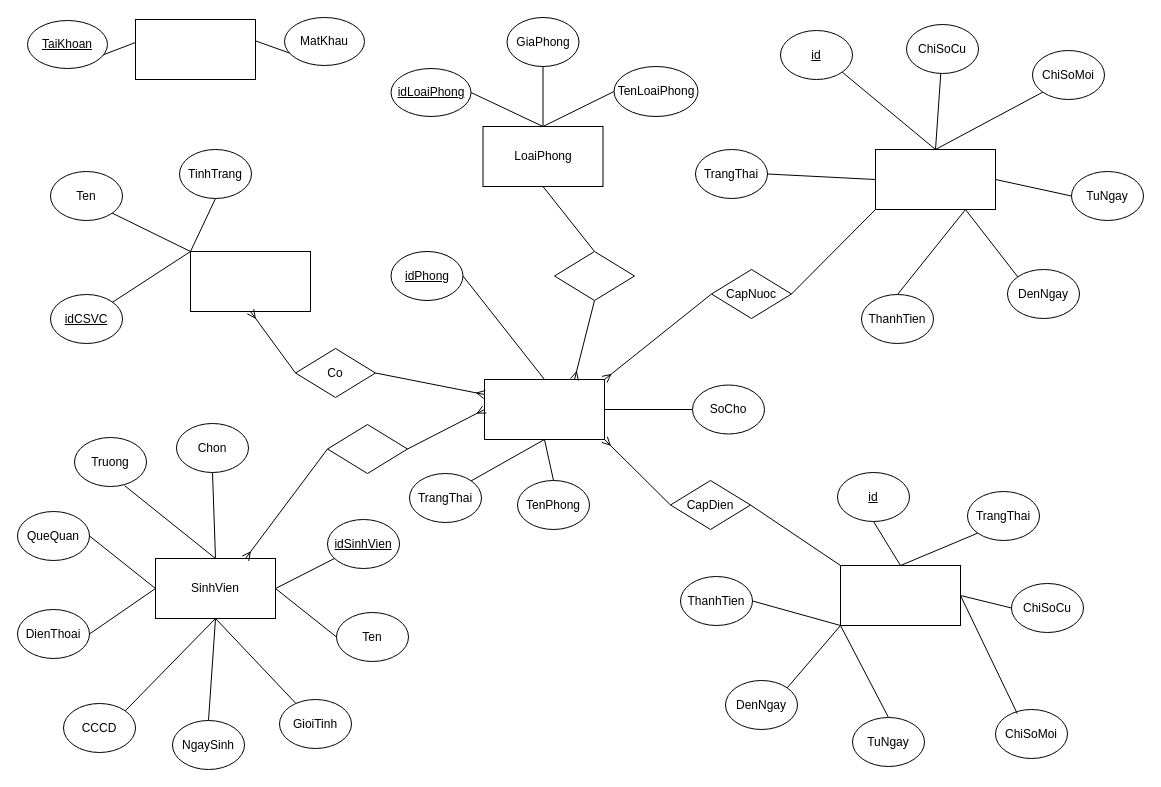
The diagram is 1161 pixels wide and 787 high, and some of its shapes have lost their labels. The shapes that lost their labels are listed below. From the top down, each one's centre as x and y in pixels, then its label:
At point 195,49: "Admin".
At point 935,179: "Nuoc".
At point 250,281: "CSVC".
At point 594,275: "ApDung".
At point 544,409: "Phong".
At point 367,449: "Thue".
At point 900,595: "Dien".
